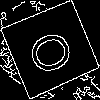O: (25, 24, 84, 79)
